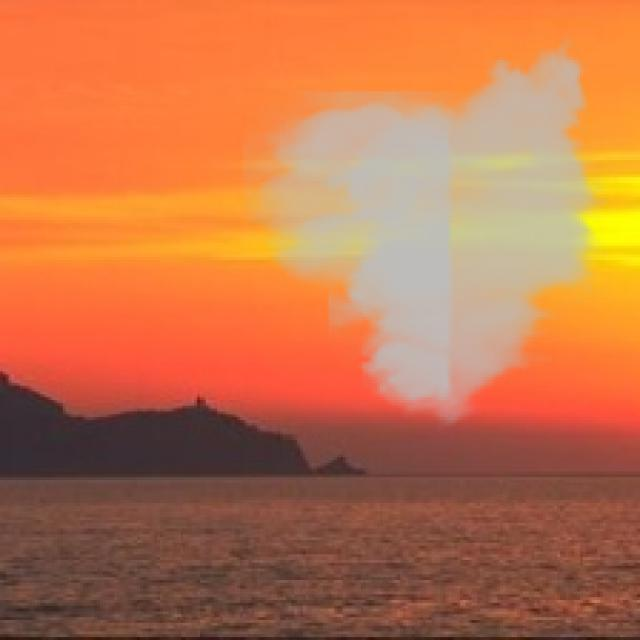smoke: (243, 29, 611, 437)
